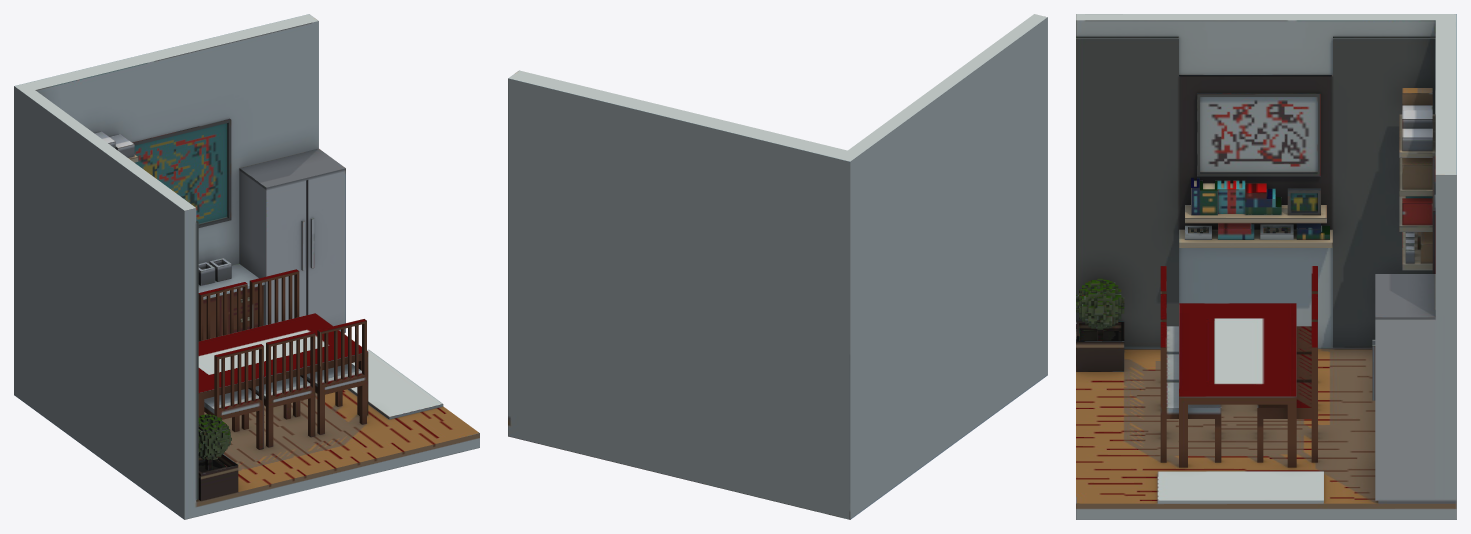
The model's file is Kitchen.dae.
3 renders of one model, left to right at view 1: azimuth 30°, elevation 25°; view 2: azimuth 150°, elevation 25°; view 3: azimuth 270°, elevation 25°, orthographic. The views are drawn at different scales.
Visible parts, largest first — view 1: Kitchen_001; view 2: Kitchen_001; view 3: Kitchen_001.
Boxes of the visible parts, bbox=[...] form: Kitchen_001: bbox=[14, 14, 479, 519]; Kitchen_001: bbox=[508, 14, 1047, 519]; Kitchen_001: bbox=[1076, 14, 1456, 519].
Bounding box in the file's own units: 126 × 126 × 126.
1 material, 1 textured.
